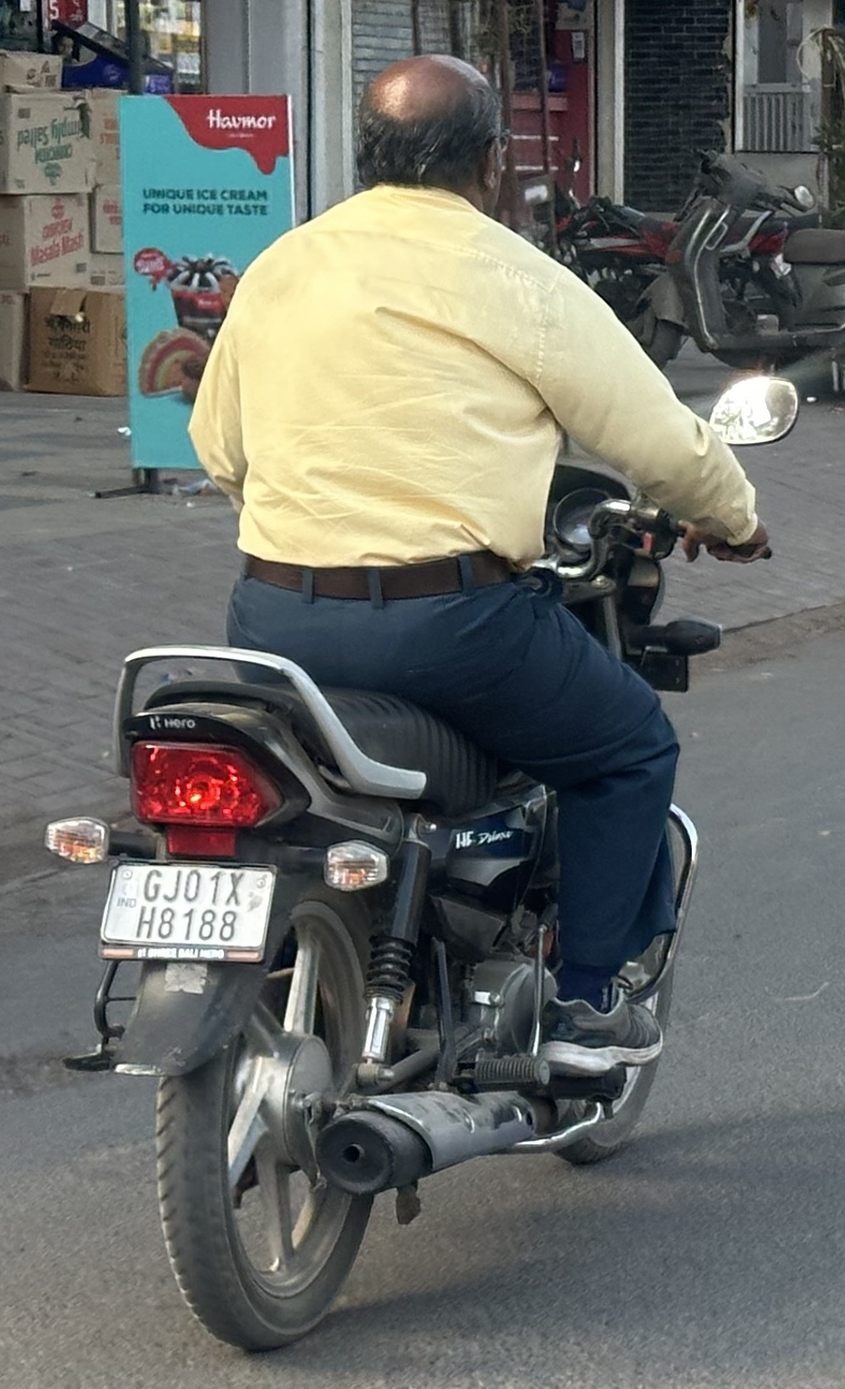BikeWithRider: (31, 39, 809, 1364)
NoHelmet: (332, 40, 527, 231)
